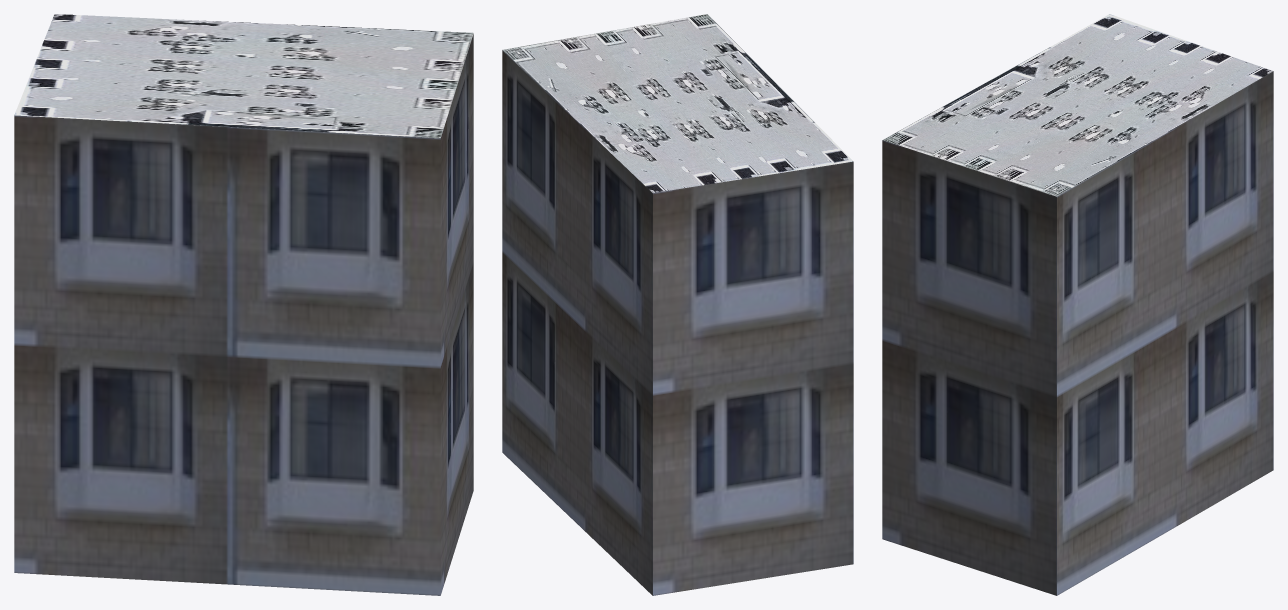
Rendered from ResTex__5206.fbx.
The picture shows the model from 3 angles, left to right: view 1: azimuth 30°, elevation 25°; view 2: azimuth 150°, elevation 25°; view 3: azimuth 270°, elevation 25°; orthographic projection. The views are drawn at different scales.
Visible parts, largest first — view 1: CityEngineMaterial_3_m, CityEngineMaterial_8_m; view 2: CityEngineMaterial_3_m, CityEngineMaterial_8_m; view 3: CityEngineMaterial_3_m, CityEngineMaterial_8_m.
Boxes of the visible parts, x1,y1,x2,y2 form: CityEngineMaterial_3_m: [14, 34, 473, 595]; CityEngineMaterial_8_m: [14, 14, 473, 138]; CityEngineMaterial_3_m: [502, 50, 853, 595]; CityEngineMaterial_8_m: [502, 14, 853, 192]; CityEngineMaterial_3_m: [882, 71, 1273, 595]; CityEngineMaterial_8_m: [883, 14, 1273, 196].
Size of the model in its own units: 5.89 by 6 by 5.33.
Materials: 2 (2 with a texture image).
